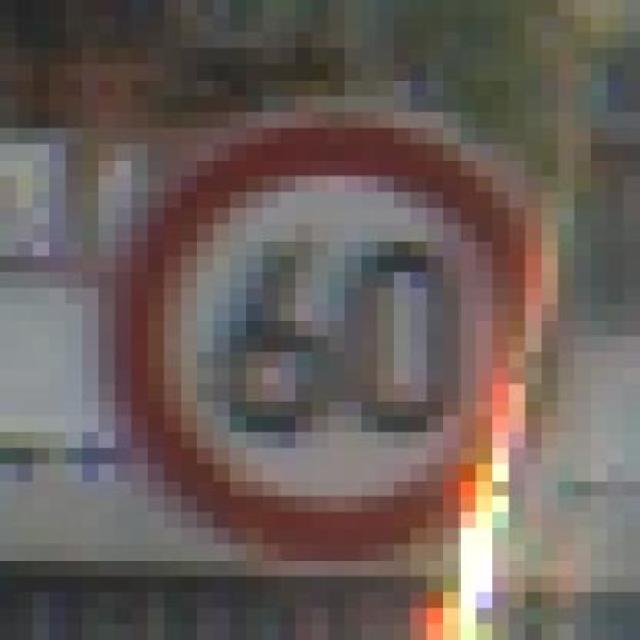forb_speed_over_60: (126, 114, 537, 551)
